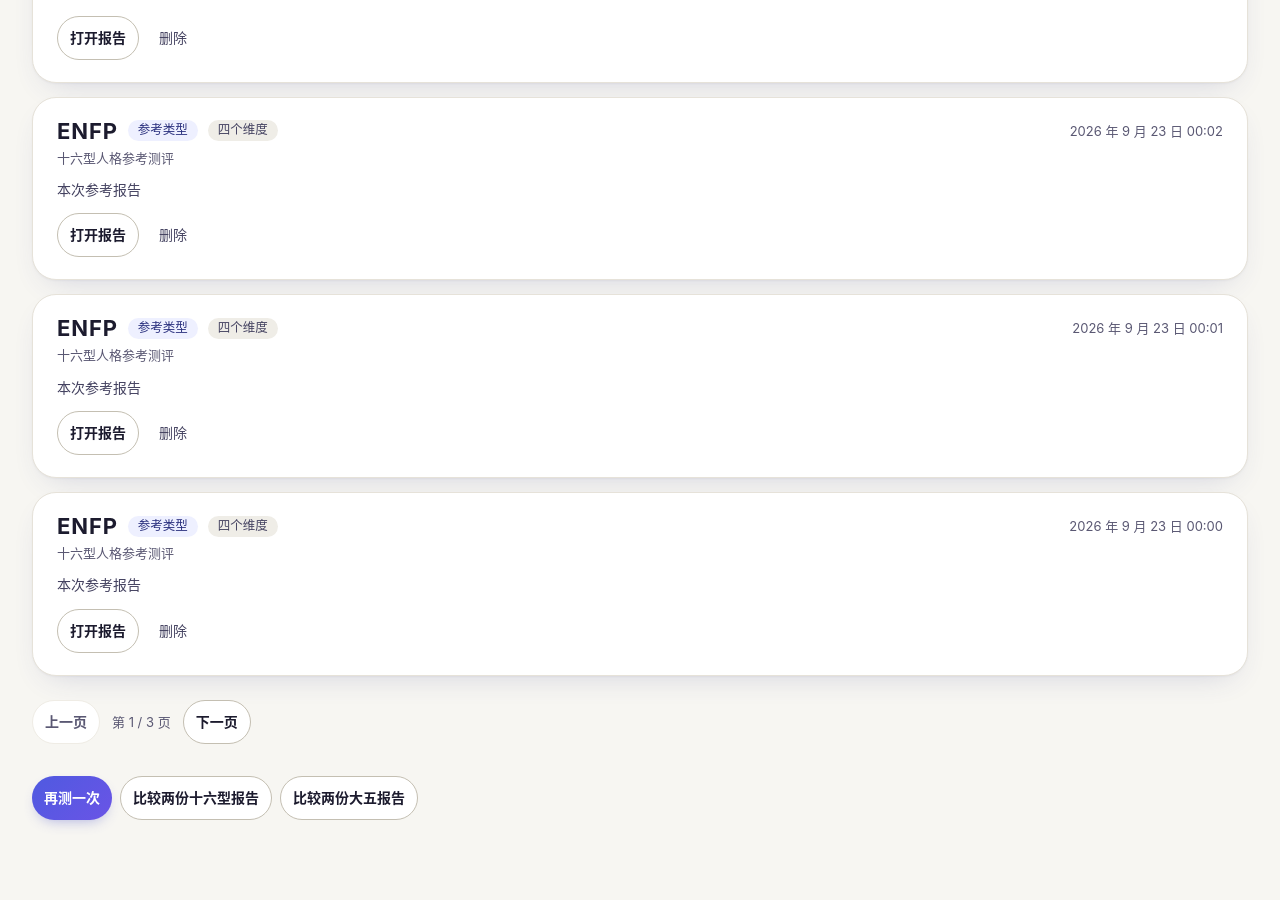
Test: 历史报告分页 › 删除末页最后一份后回到有效页并刷新服务端总数
This screenshot has width=1280, height=900.
(page scrolled)
Click the button "下一页".
click(217, 722)  # box left=183, top=700, right=251, bottom=744
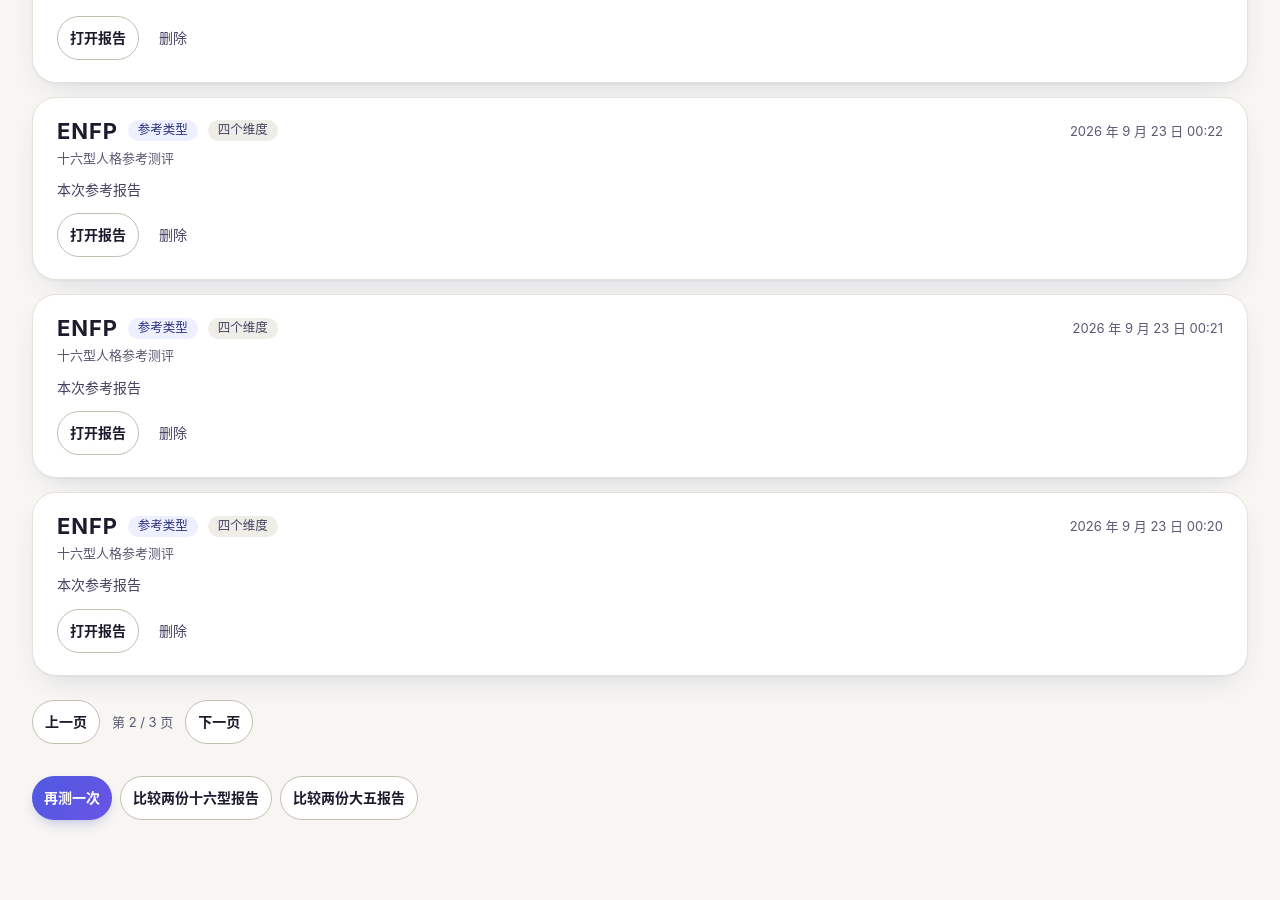
Click the button "下一页".
click(219, 722)  # box left=185, top=700, right=253, bottom=744
(page scrolled)
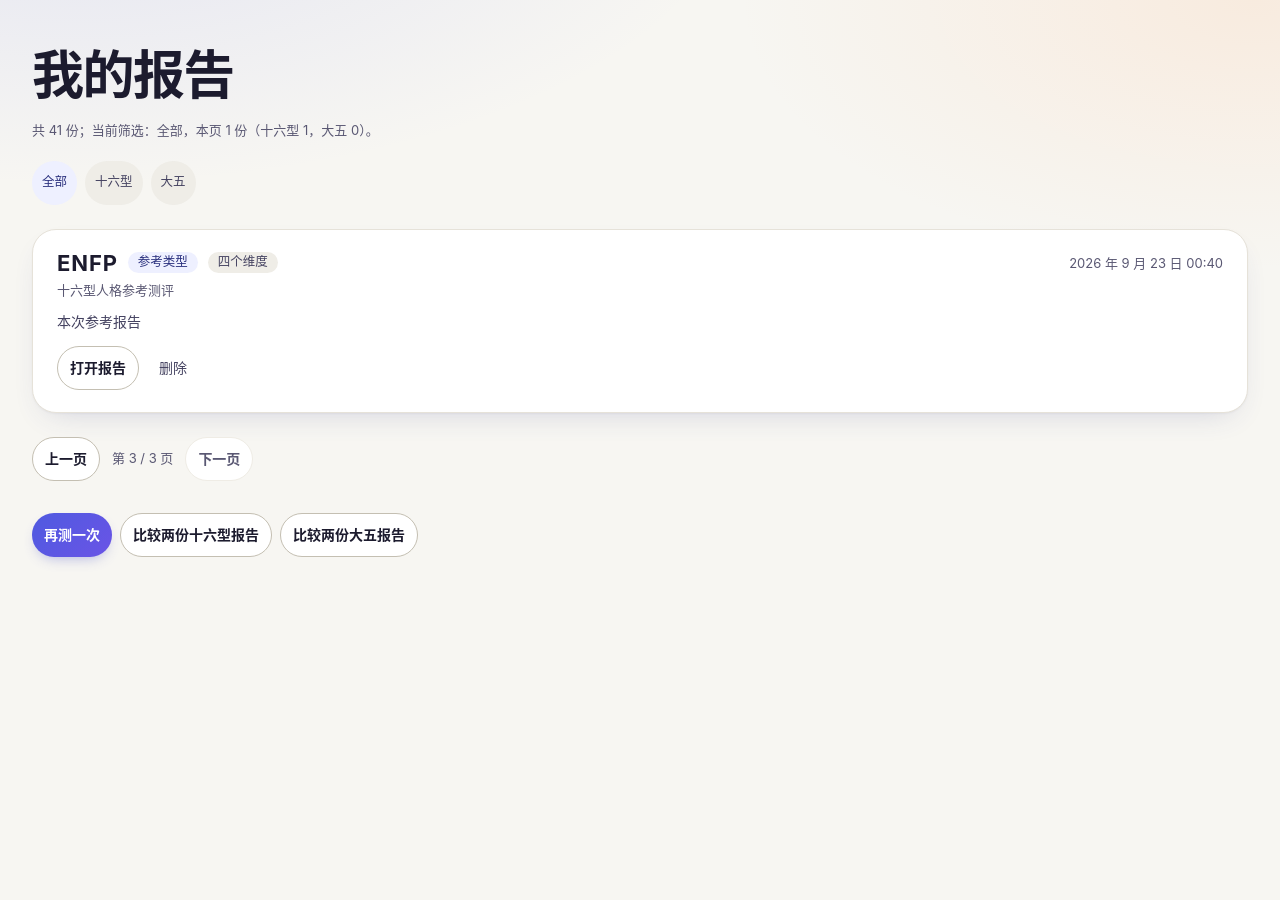
Expected: the number of list items is 1, left=32, top=229, right=1248, bottom=412
Click the button "删除".
click(173, 368)  # box left=147, top=346, right=199, bottom=390
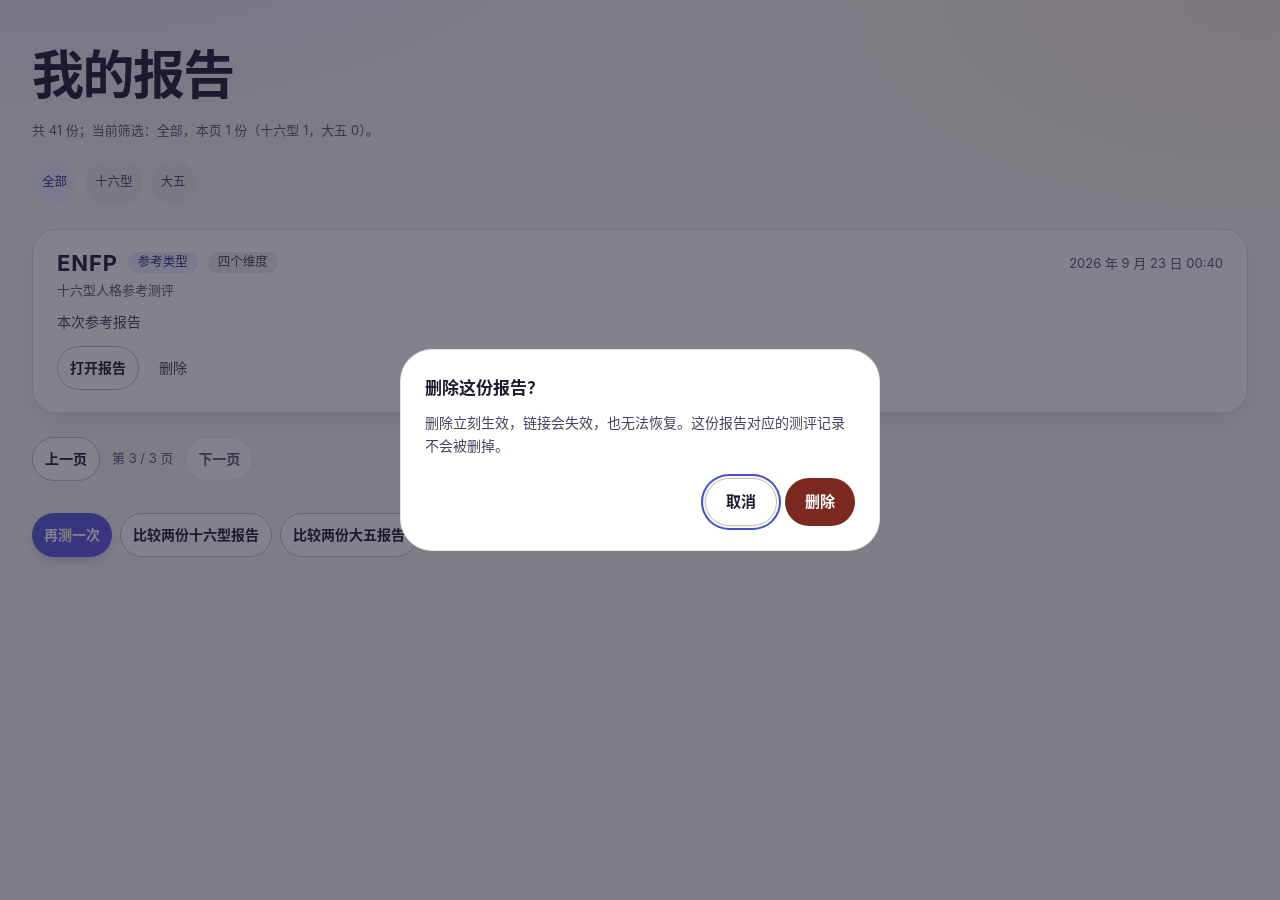
Click the button "删除".
click(820, 502)  # box left=785, top=478, right=855, bottom=526
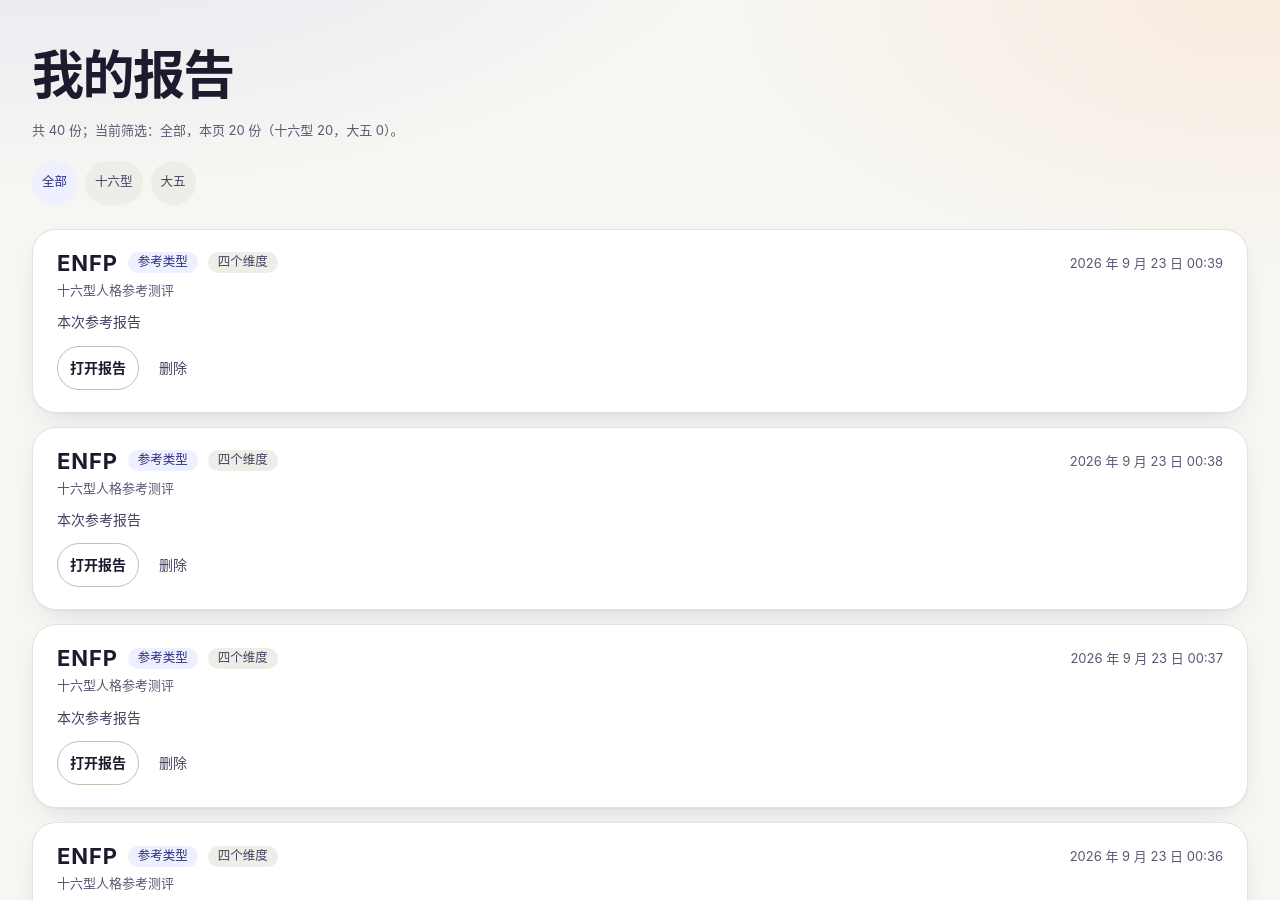
Expected: the number of list items is 20
Expected: the text "共 40 份；当前筛选：全部，本页 20 份（十六型 20，大五 0）。" is shown, left=32, top=122, right=404, bottom=138
